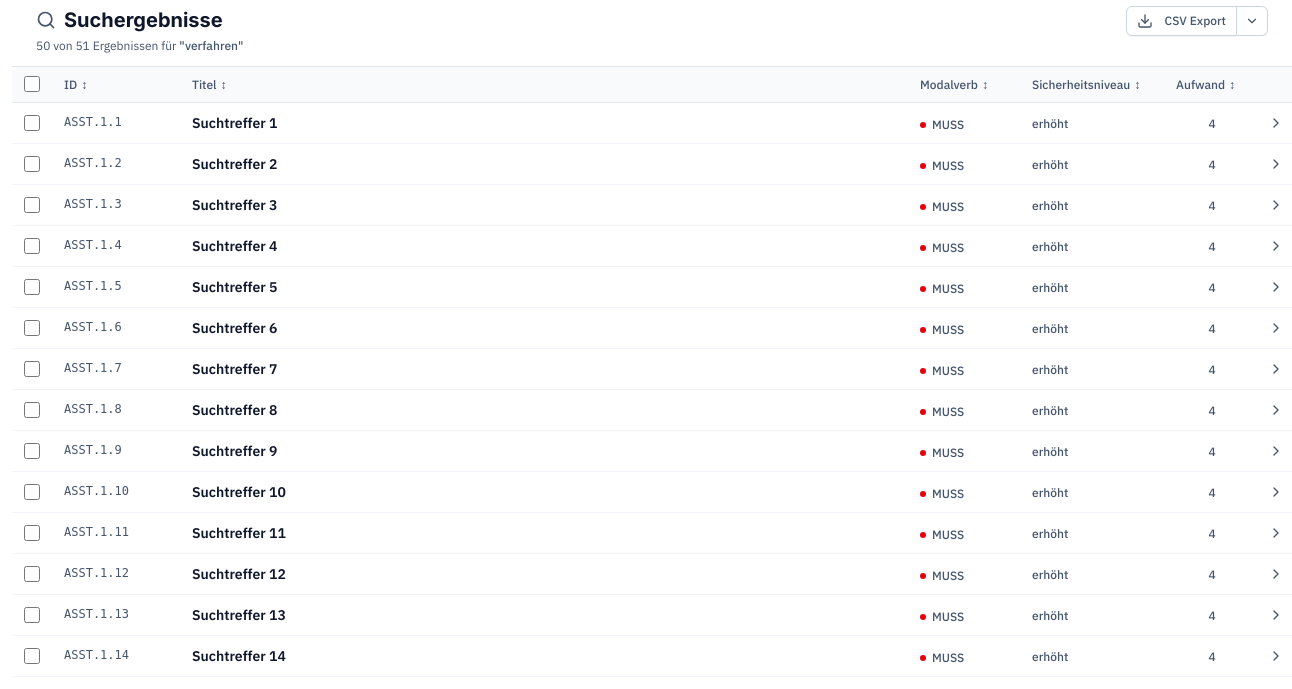
Test: SearchPage › Auswahl und Export › „Alle auswählen" markiert und demarkiert alle 51 Treffer der Query, auch nicht gerenderte
Click the checkbox named "Alle auswählen" at (32,84), box [24,76,40,92]
(page scrolled)
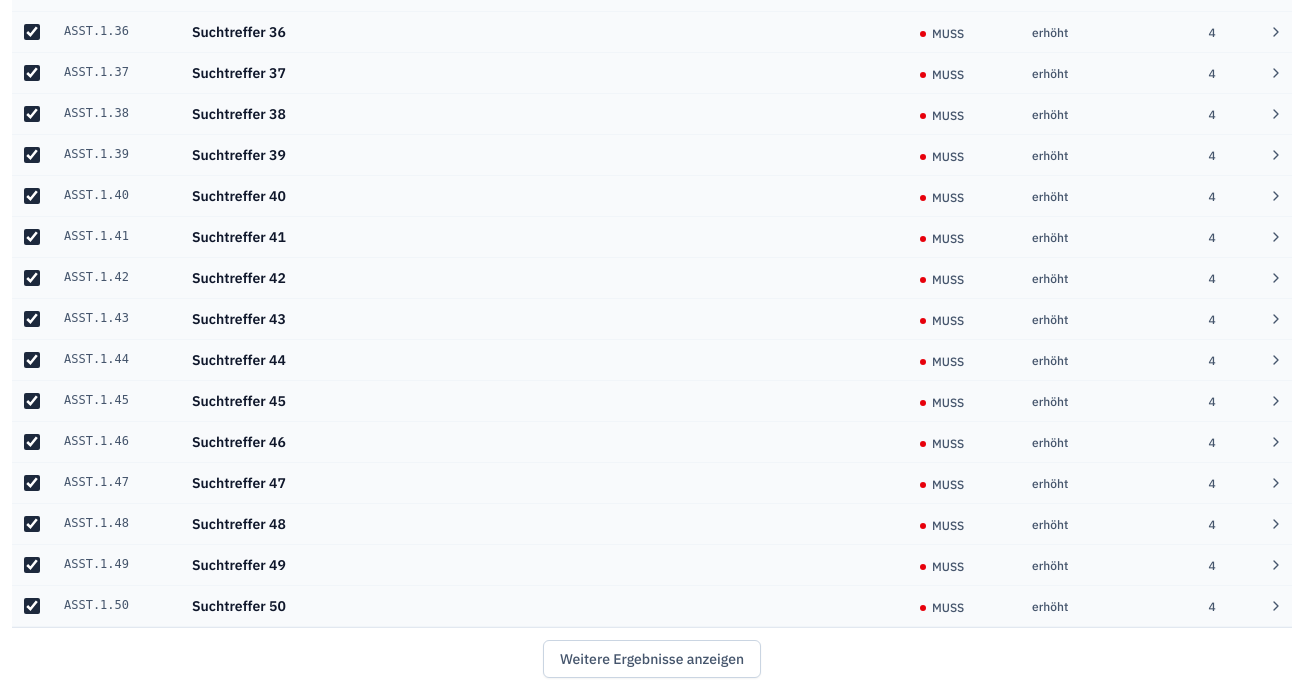
Click the button with aria-label "Weitere Suchergebnisse anzeigen" at (652,659), box [543,640,761,678]
(page scrolled)
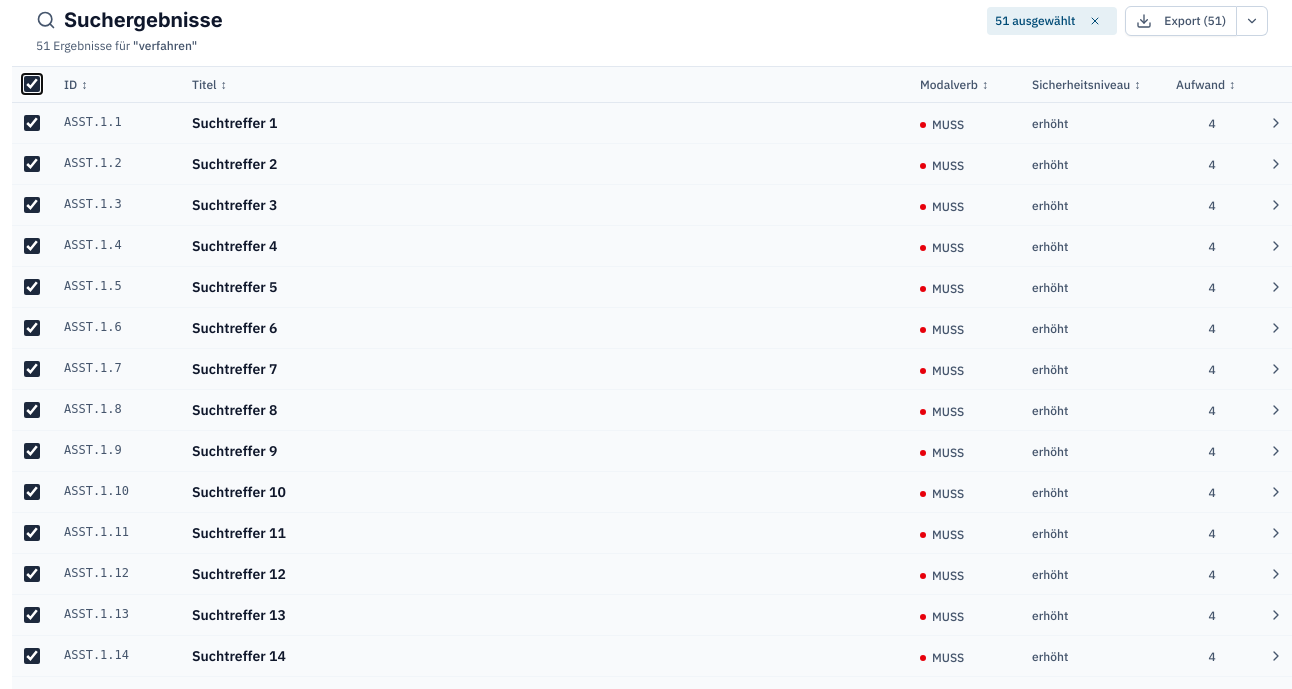
Press End in the row "ASST.1.1 Suchtreffer 1 MUSS erhöht 4", box [12,103,1291,144]
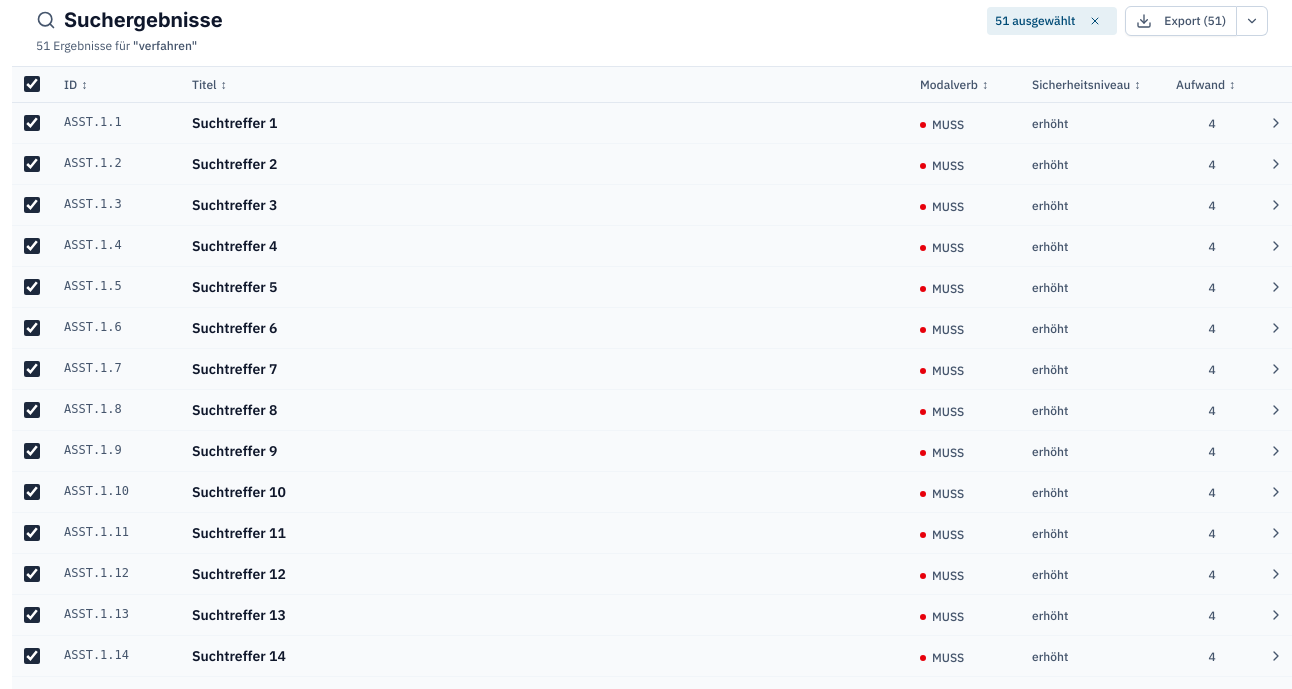
Click the checkbox named "Alle auswählen" at (32,84), box [24,76,40,92]
(page scrolled)
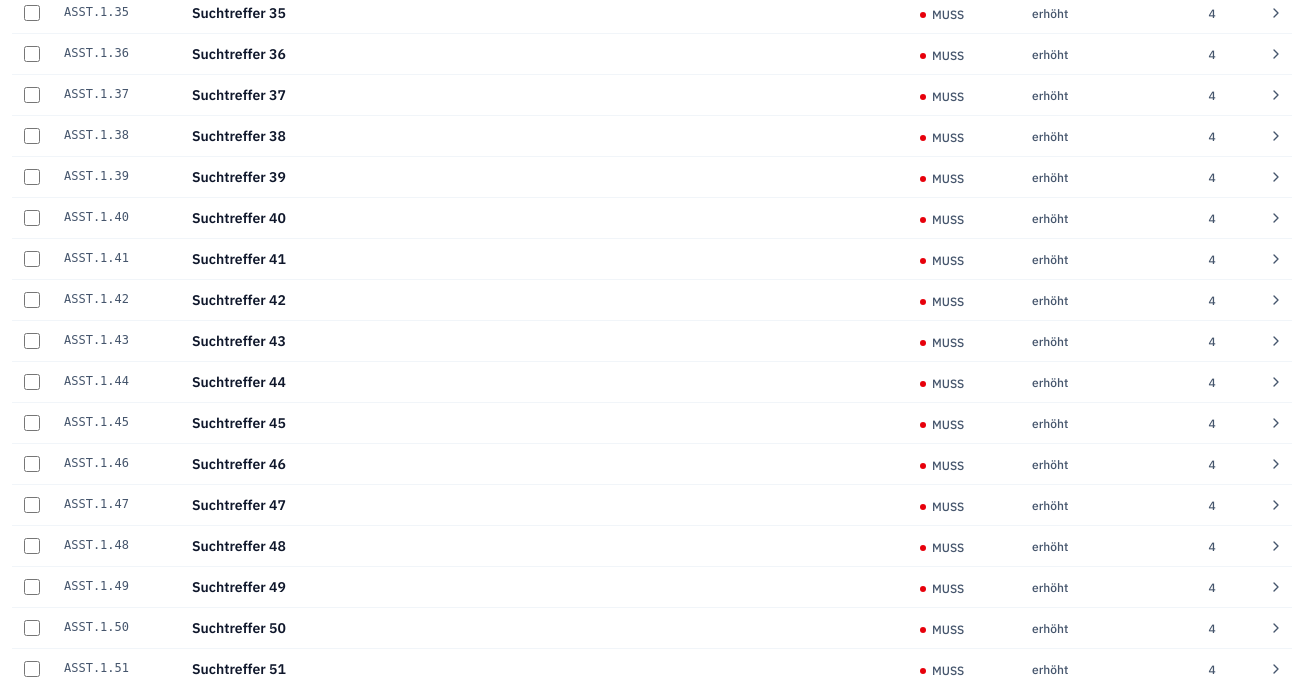
Now the text "ausgewählt" is gone
Now the checkbox named "ASST.1.51 auswählen" is not checked, box [24,661,40,677]
